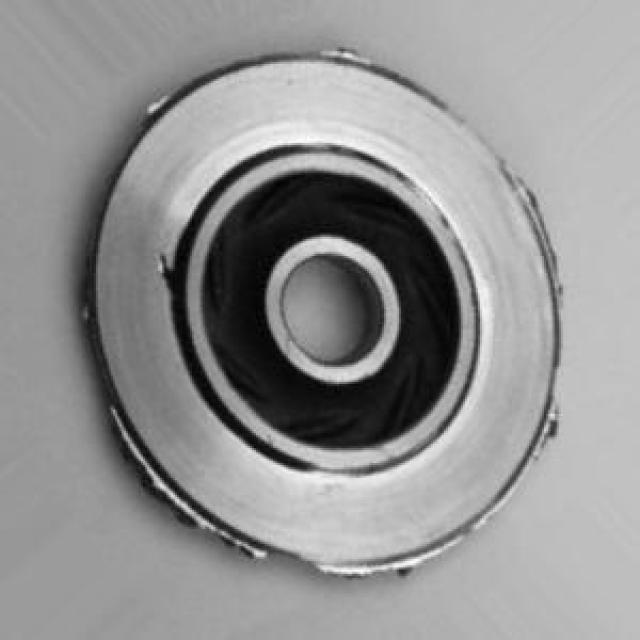Defect: (520, 178, 554, 243), (153, 240, 193, 293)
